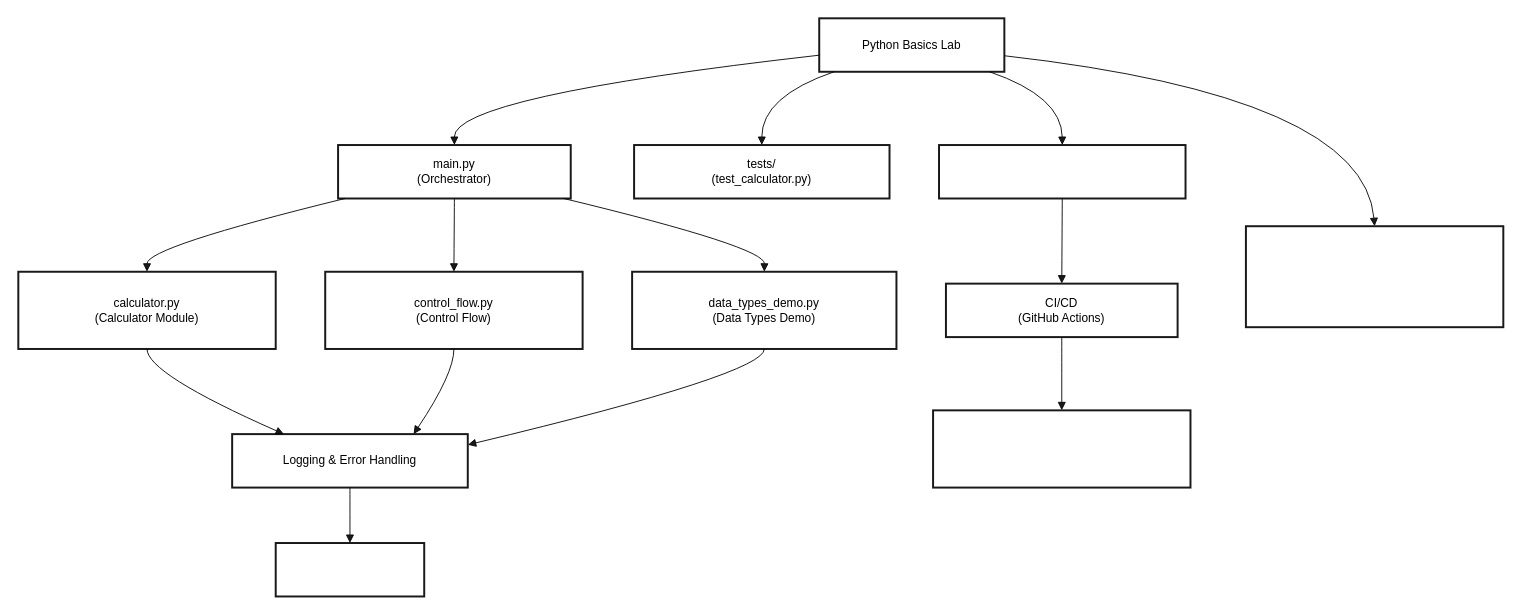
This 1521x614 diagram has some shape labels left out. The shapes that lost their labels are listed below. From the top down, each one's centre as x and y in pixels, then its label:
At [1062,171]: "GitHub Repo (Versioning)".
At [1374,276]: "Architecture Diagram (architecture-diagram.drawio)".
At [1061,448]: "Cloud (AWS Lambda / Azure Functions)".
At [349,569]: "logs/app.log".
